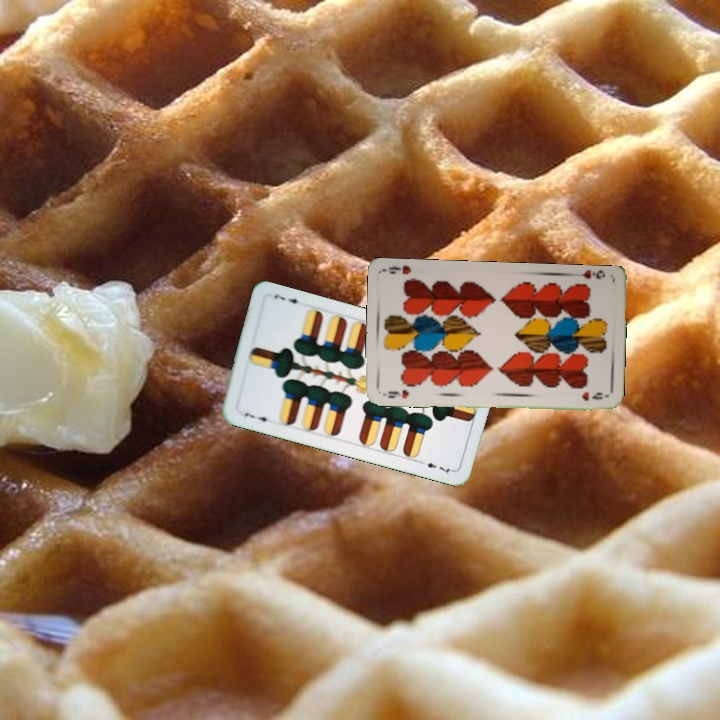E7: (239, 409, 274, 426)
H9: (384, 386, 411, 401), (578, 268, 607, 281)
